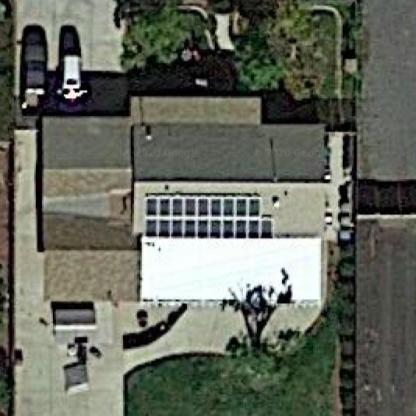car: (14, 29, 58, 116), (55, 39, 91, 103)
solar_panel: (145, 188, 287, 246)
